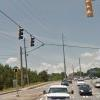Traffic light: (12, 19, 34, 52)
